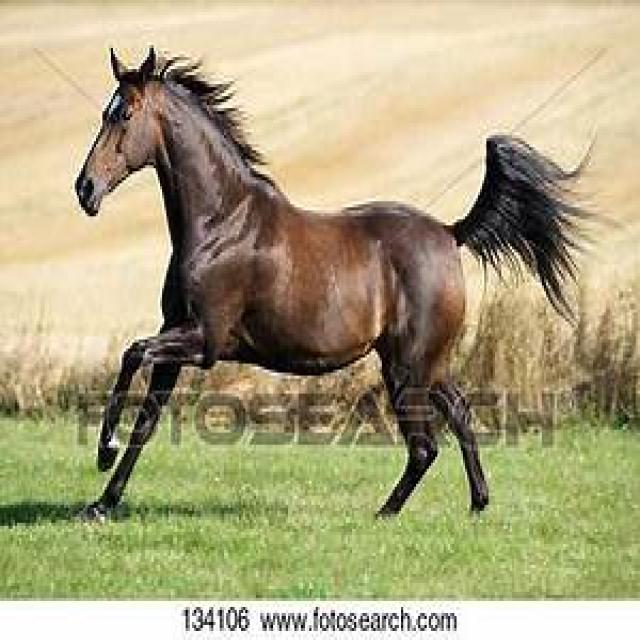horse: (73, 48, 576, 520)
